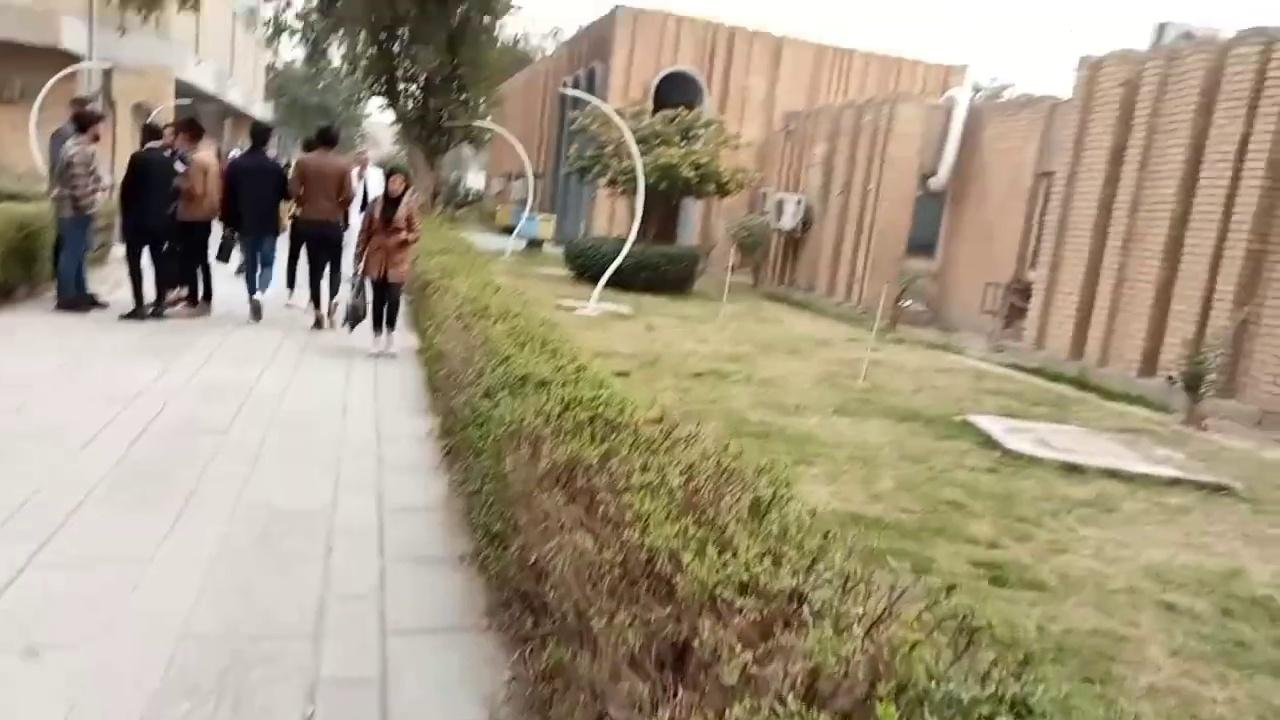person: (219, 120, 290, 322), (287, 124, 355, 330), (352, 164, 422, 356), (48, 108, 109, 311)
tree: (403, 206, 1030, 718), (262, 0, 543, 214), (556, 93, 757, 248), (263, 58, 368, 162), (1168, 344, 1223, 426), (724, 208, 770, 269)
